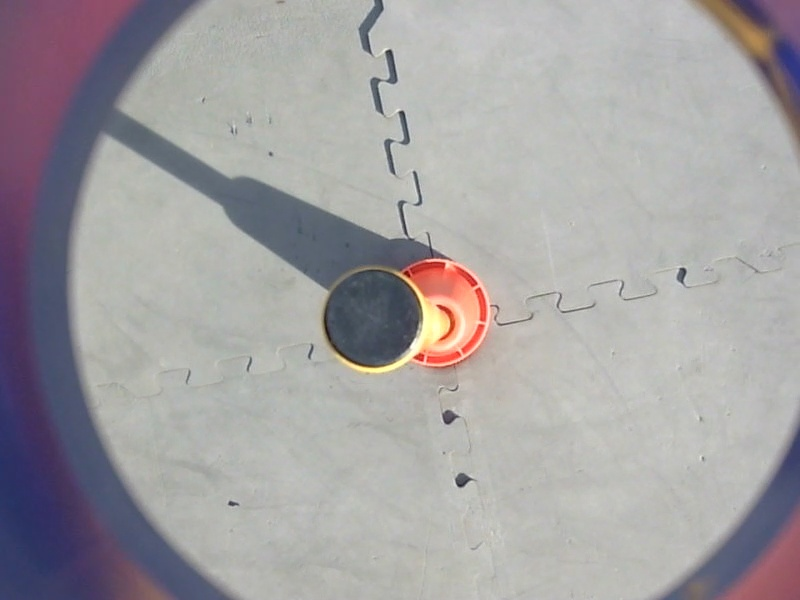tip: (315, 259, 430, 378)
